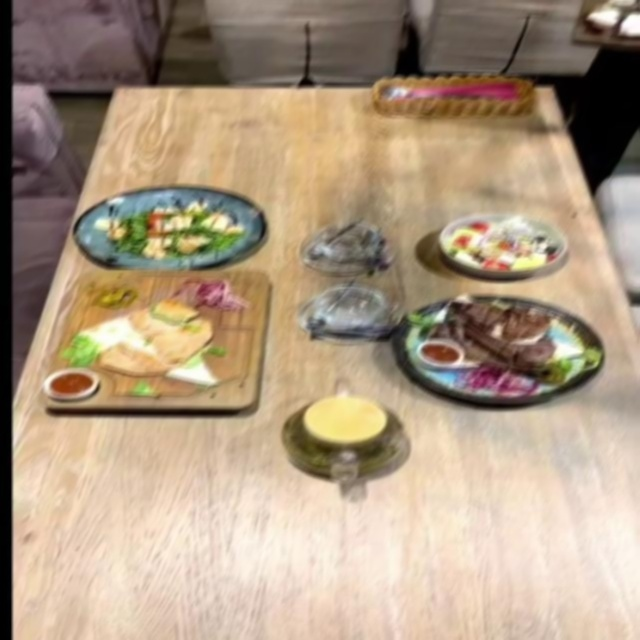meat: (41, 273, 271, 417), (390, 295, 606, 404)
salad: (72, 185, 264, 268), (438, 212, 570, 276)
tea: (280, 394, 409, 482)
